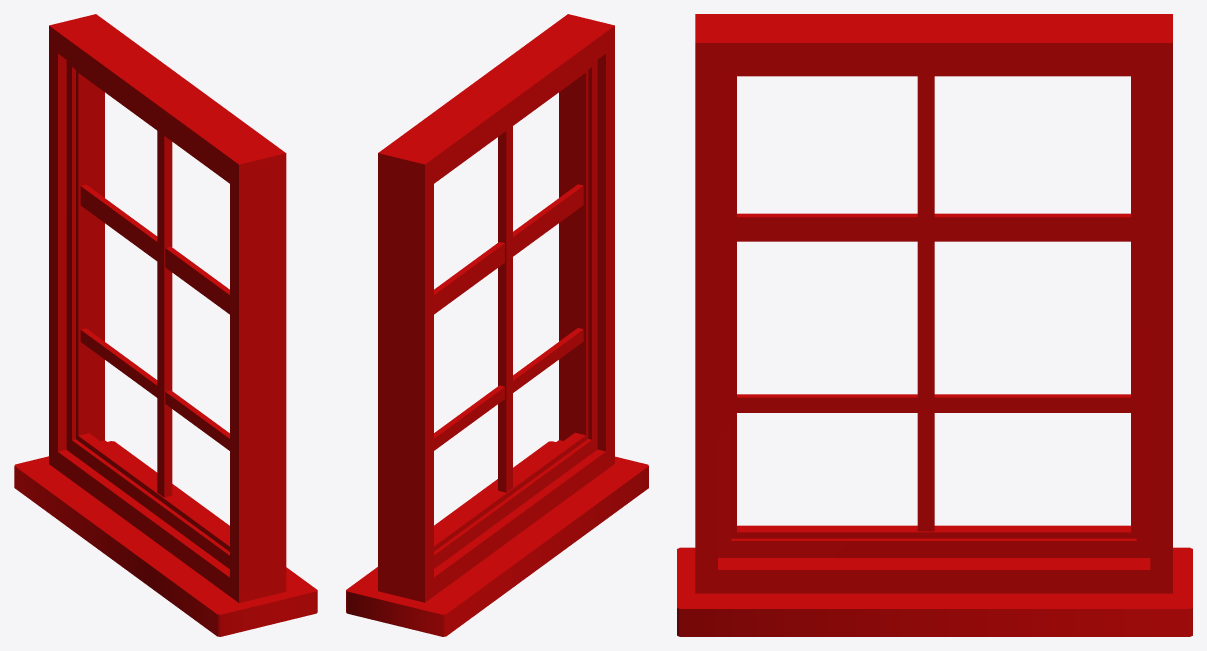
File: Attic_WindowFrame_01_LP.glb
3 views of the same model, side by side, from view 1: azimuth 30°, elevation 25°; view 2: azimuth 150°, elevation 25°; view 3: azimuth 270°, elevation 25° (orthographic). The views are drawn at different scales.
Parts seen in each view (by area): view 1: Attic_WindowFrame_01_LP; view 2: Attic_WindowFrame_01_LP; view 3: Attic_WindowFrame_01_LP.
Boxes of the visible parts, bbox=[...] form: Attic_WindowFrame_01_LP: bbox=[14, 14, 317, 636]; Attic_WindowFrame_01_LP: bbox=[346, 14, 648, 636]; Attic_WindowFrame_01_LP: bbox=[677, 14, 1192, 636].
Size of the model in its own units: 0.4775 by 2.1 by 1.7.
